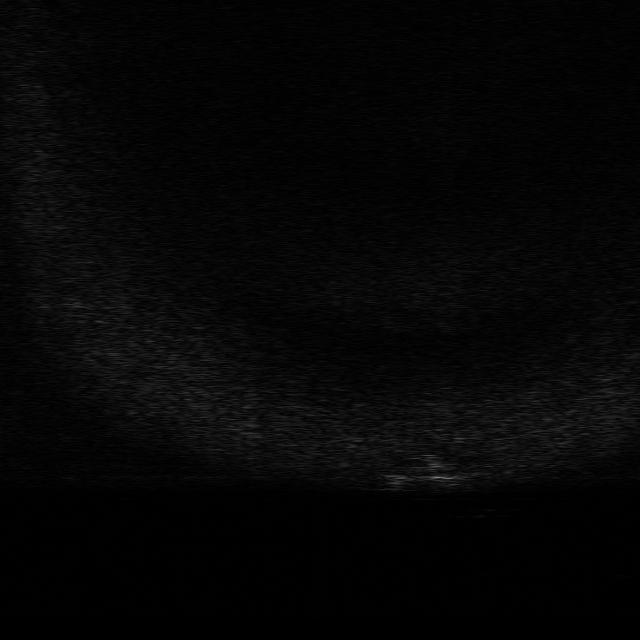plane: (374, 450, 486, 493)
